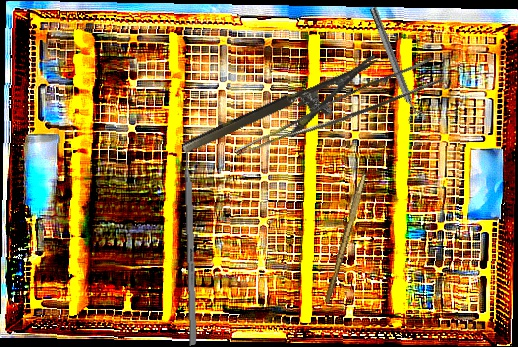Fixation Ring: (364, 4, 427, 126)
Needle Holder: (179, 54, 393, 180)
Pusher: (181, 122, 198, 346)
Scalpel Handle: (323, 171, 368, 304)
Tissue Forceps: (234, 51, 444, 179)
